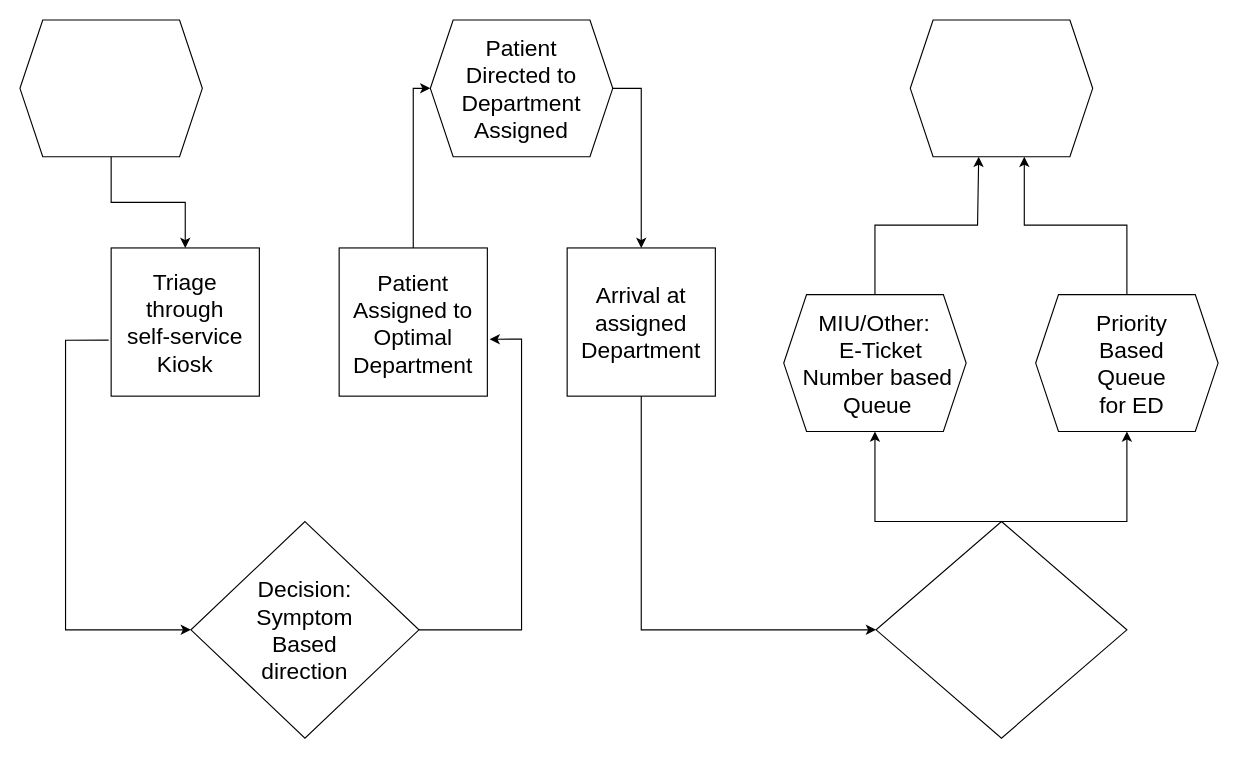
This 1238x758 diagram has some shape labels left out. The shapes that lost their labels are listed below. From the top down, each one's centre as x and y in pixels, then its label:
At [110,88]: "Patient Arrival at Site".
At [1001,88]: "Treatment Completed".
At [1001,629]: "Patient Directed based on Department type".
